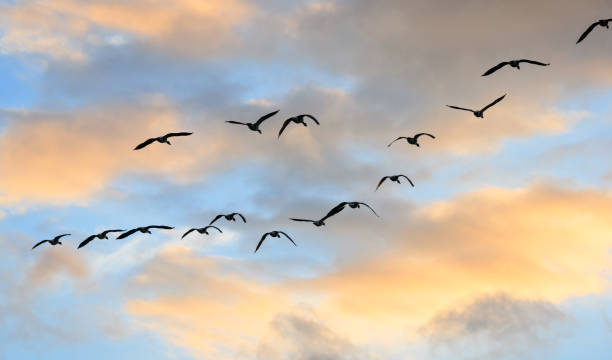Bird: (220, 104, 278, 137), (443, 93, 509, 122), (480, 56, 553, 78), (323, 197, 387, 222), (132, 128, 192, 151), (277, 112, 320, 142), (251, 230, 298, 253), (574, 19, 611, 45), (387, 131, 435, 151), (375, 171, 416, 194), (75, 228, 119, 248), (180, 224, 225, 243), (118, 223, 175, 238), (286, 212, 335, 228), (29, 230, 71, 248), (212, 210, 249, 227)
